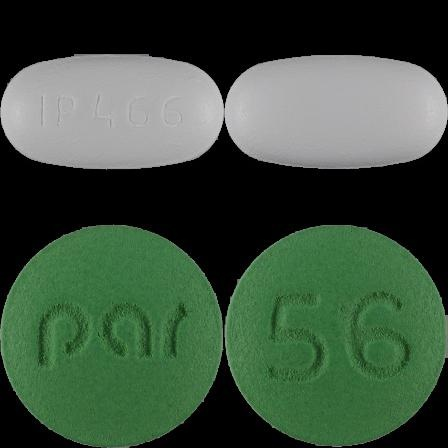60429-094: (0, 0, 224, 224)
